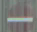No entry: (5, 3, 35, 31)
